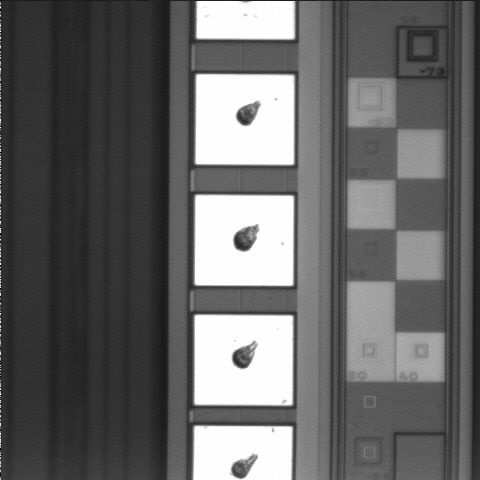pad: (195, 195, 294, 286), (196, 74, 294, 165), (195, 315, 293, 405)
